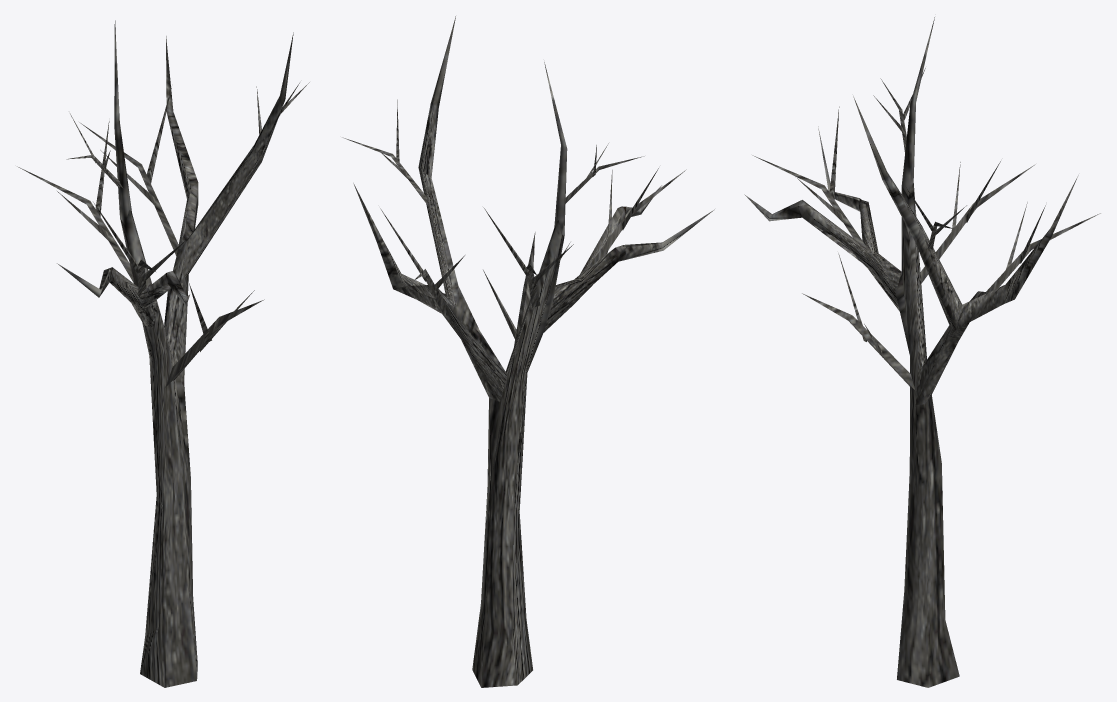
3 renders of one model, left to right at view 1: azimuth 30°, elevation 25°; view 2: azimuth 150°, elevation 25°; view 3: azimuth 270°, elevation 25°, orthographic. The views are drawn at different scales.
Parts seen in each view (by area): view 1: a75; view 2: a75; view 3: a75.
Part boxes in pixels (x1,y1,x2,y2): a75: (17, 20, 309, 687); a75: (342, 16, 714, 687); a75: (744, 17, 1100, 687).
Bounding box in the file's own units: 739 × 1448 × 738.
